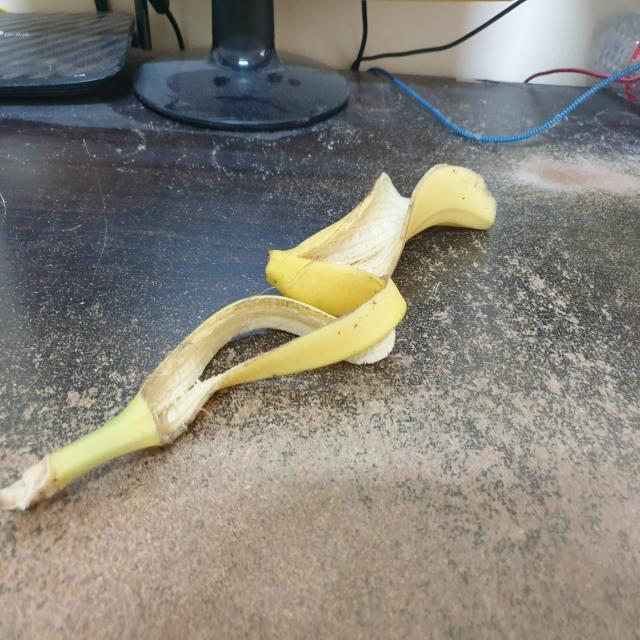banana-peel: (0, 161, 497, 512)
